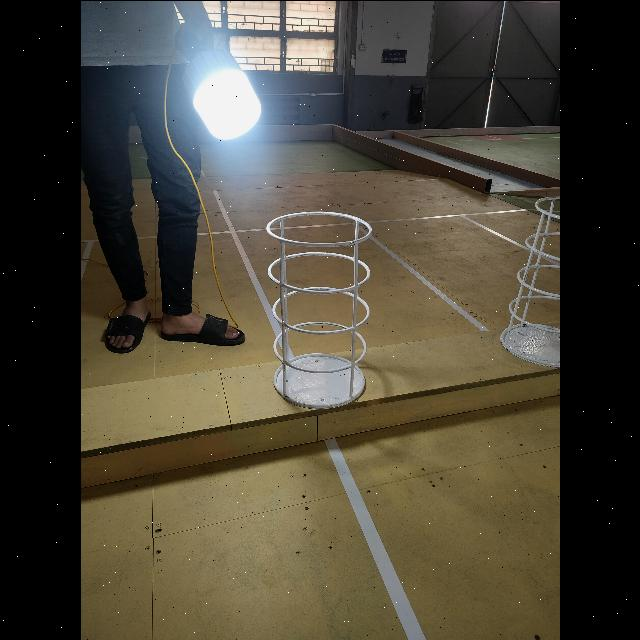S: (265, 210, 373, 408), (500, 195, 560, 369)
